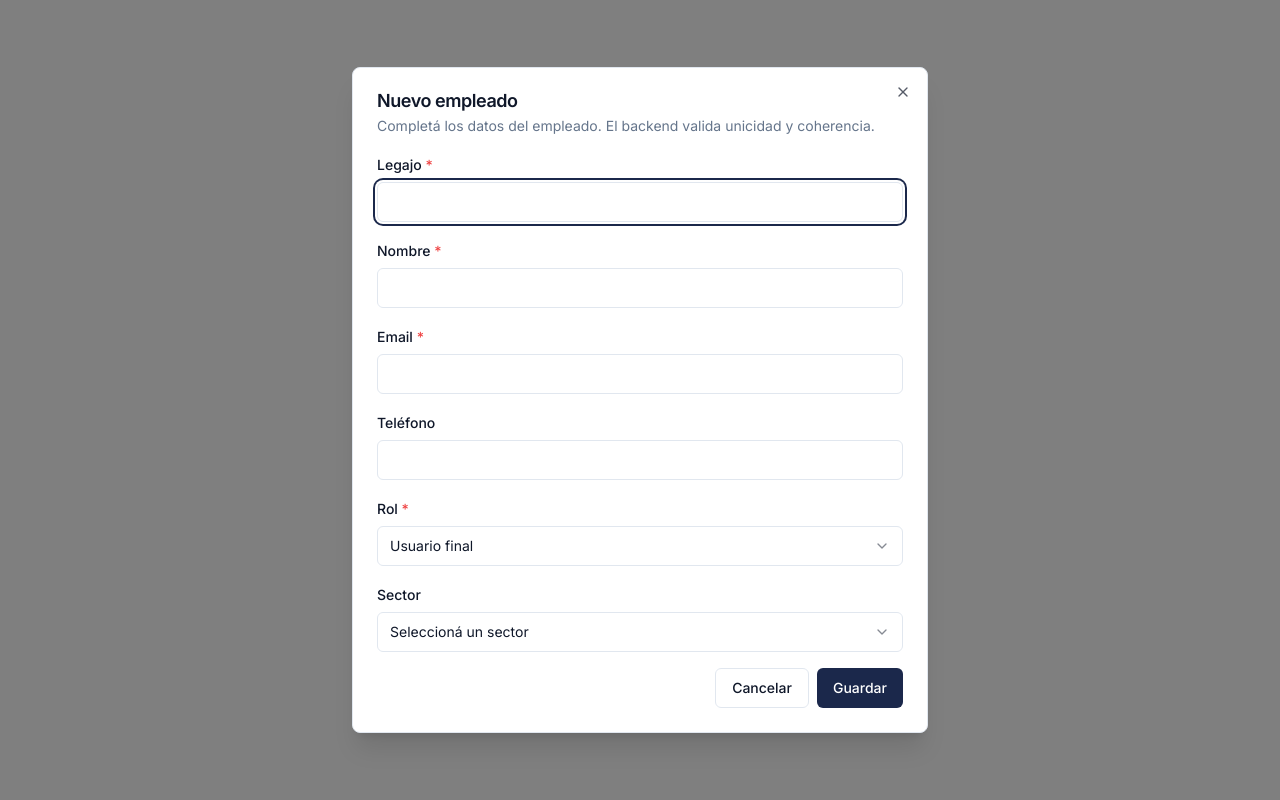
Test: EmpleadoFormDialog - validacion (FDIR-003) › bloquea el envio con email de formato invalido
Type "0009" into the field labelled "Legajo *".
click(640, 202); type("0009")  # box [377,182,903,222]
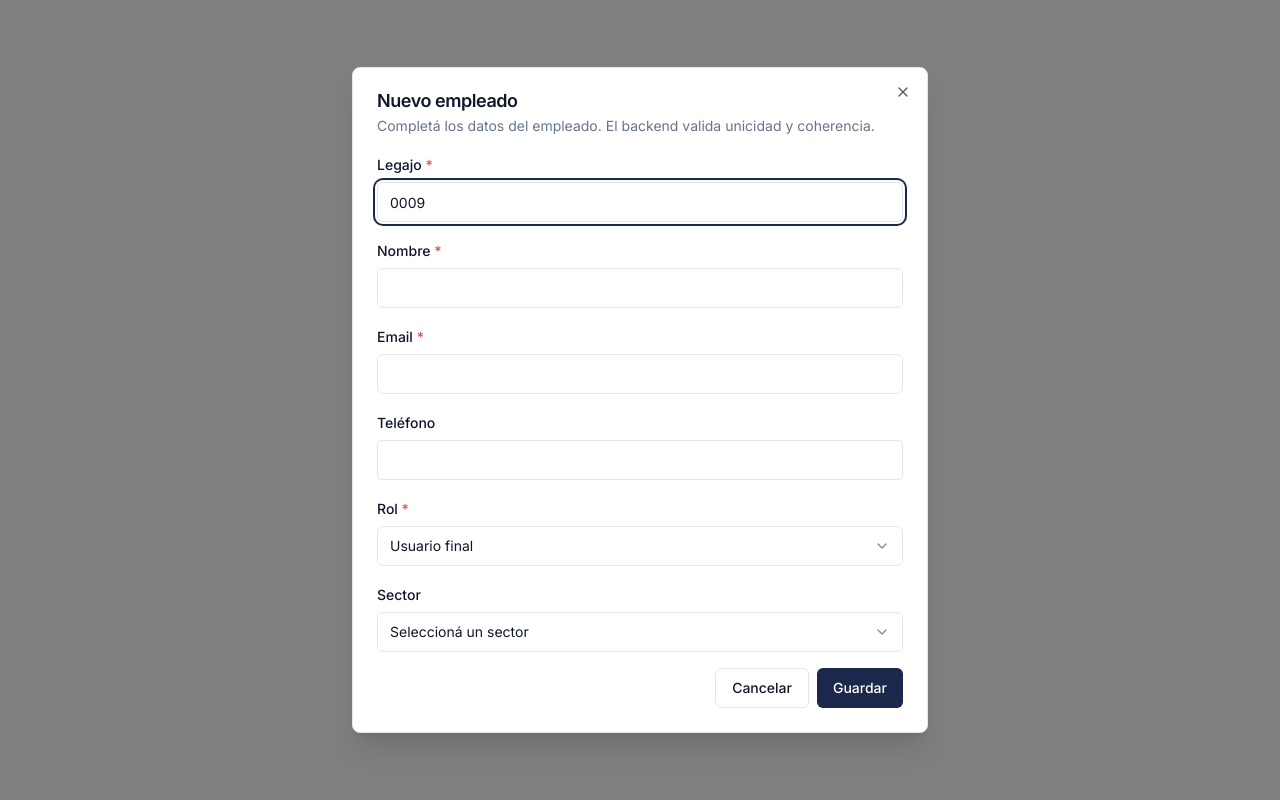
Type "Carla Paz" into the field labelled "Nombre *".
click(640, 288); type("Carla Paz")  # box [377,268,903,308]
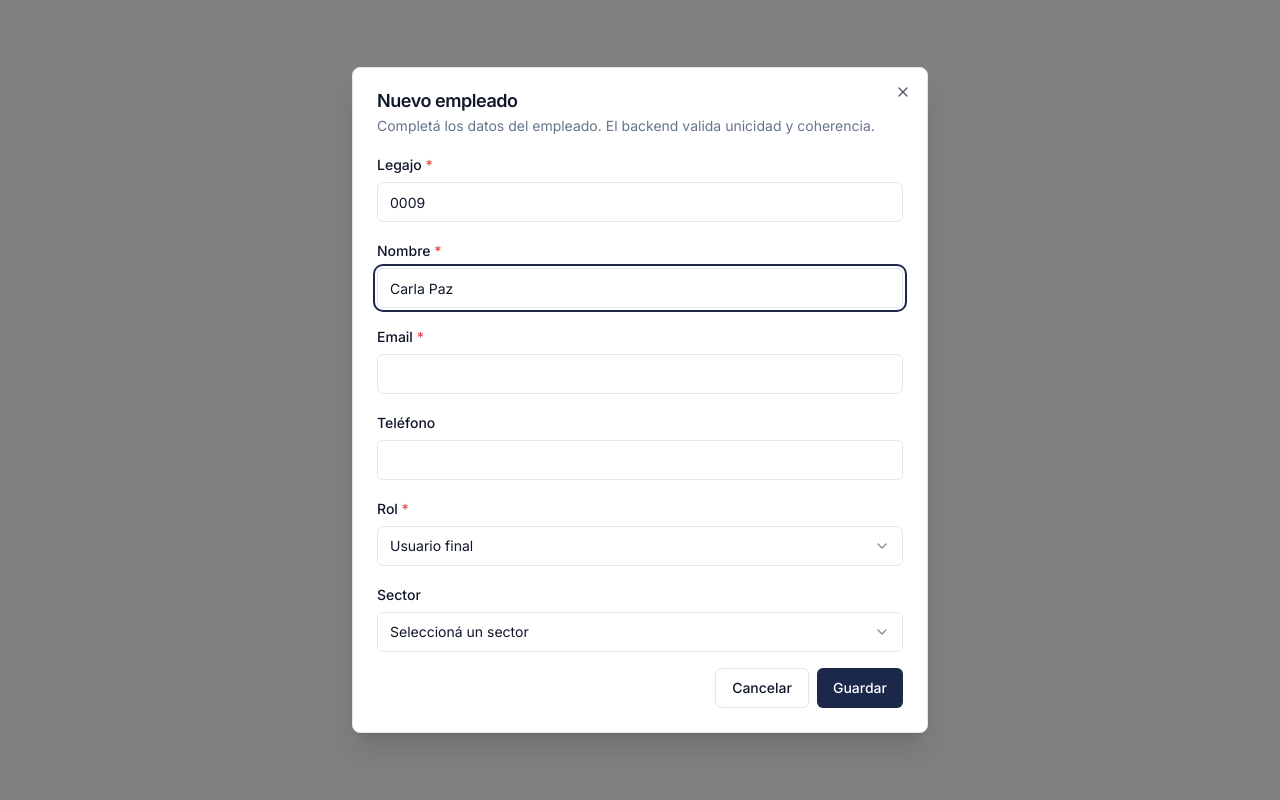
Type "no-es-un-email" into the field labelled "Email *".
click(640, 374); type("no-es-un-email")  # box [377,354,903,394]
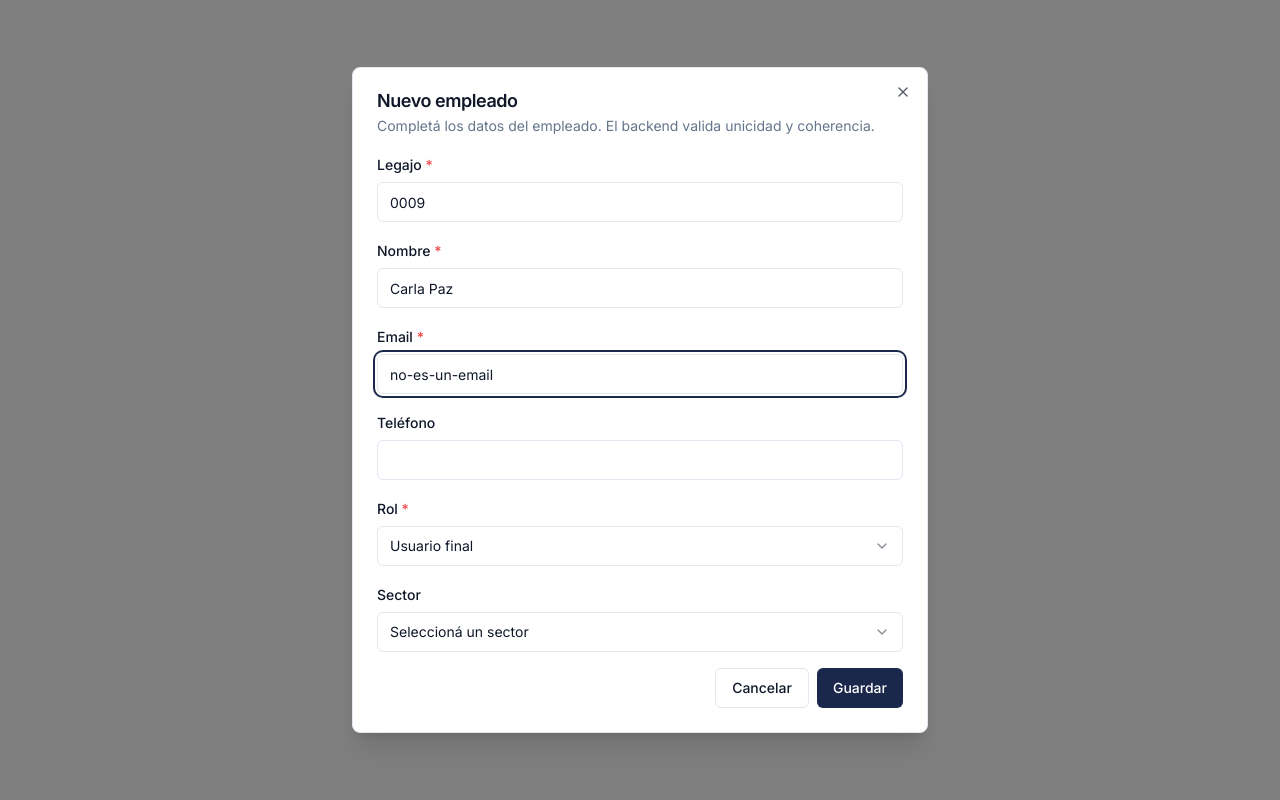
Click the button "Guardar".
click(860, 688)  # box [817,668,903,708]
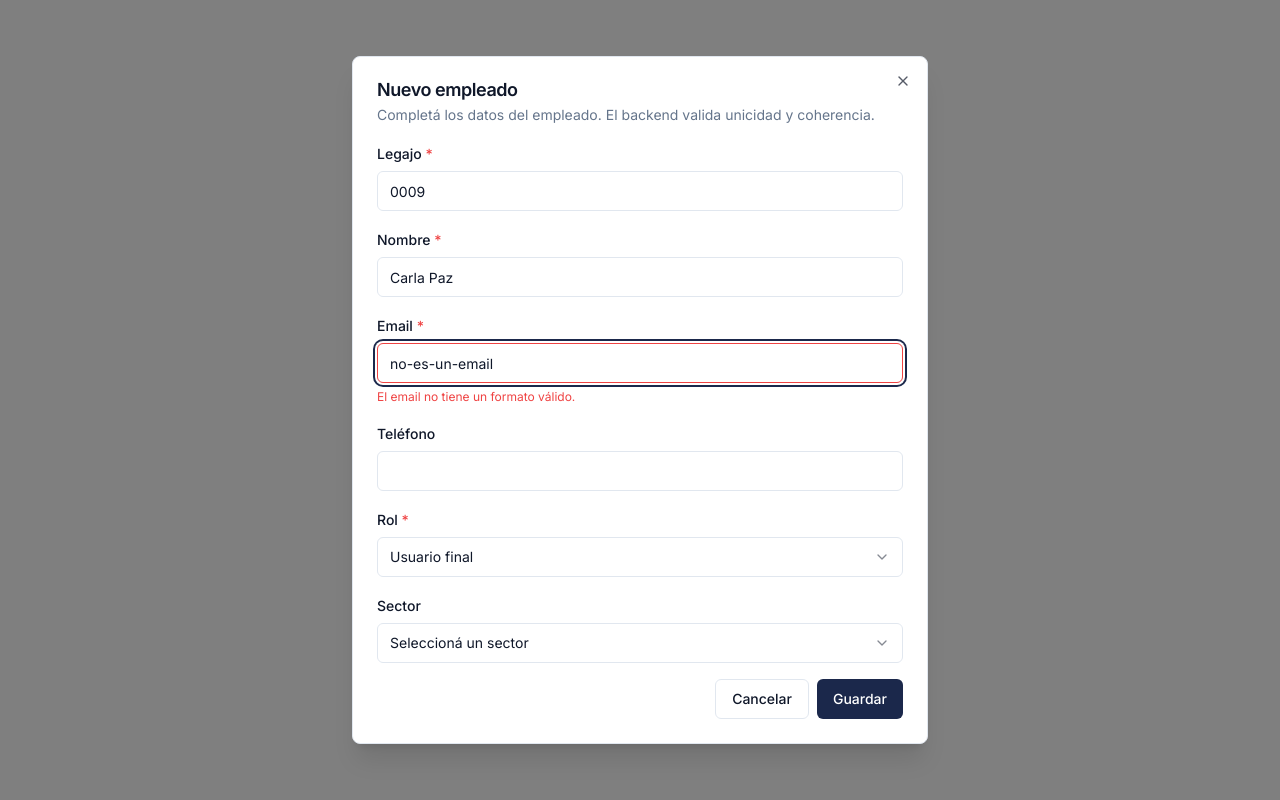
Result: the text "El email no tiene un formato válido." is shown at [377,389,575,404]
